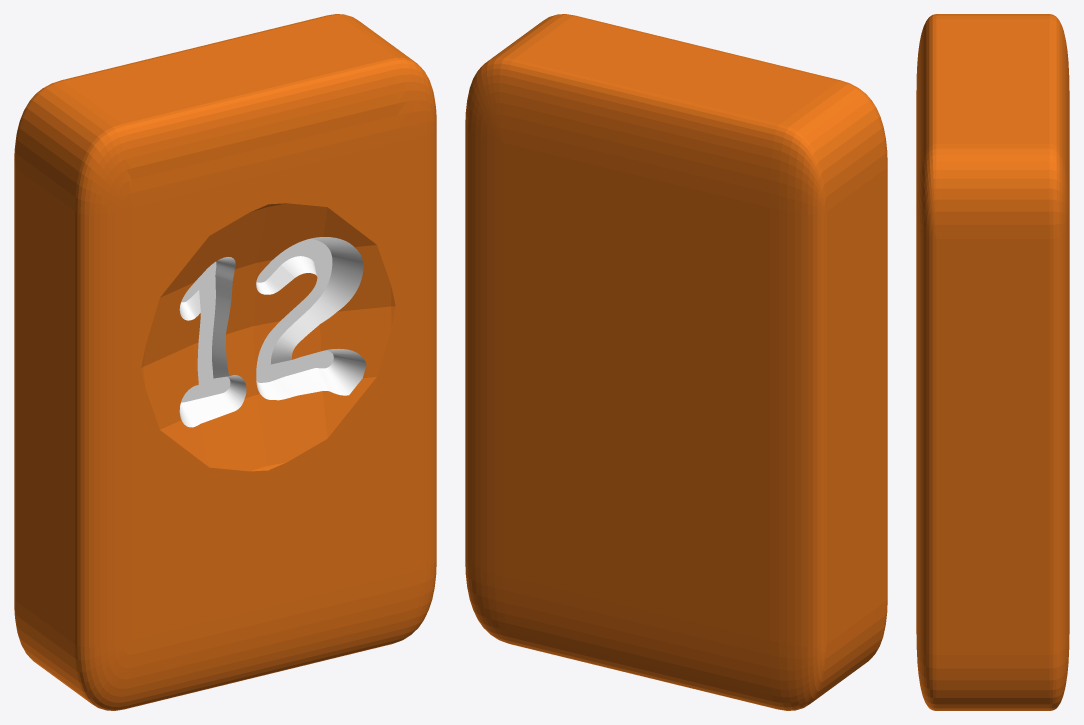
The model's file is Rummikub Card 12.FBX.
3 views of the same model, side by side, from view 1: azimuth 30°, elevation 25°; view 2: azimuth 150°, elevation 25°; view 3: azimuth 270°, elevation 25° (orthographic). The views are drawn at different scales.
Visible parts, largest first — view 1: CardModel; view 2: CardModel; view 3: CardModel.
Boxes of the visible parts, left/top/right/bottom form: CardModel: left=14, top=14, right=436, bottom=710; CardModel: left=465, top=14, right=887, bottom=710; CardModel: left=916, top=14, right=1069, bottom=710.
Bounding box in the file's own units: 44.87 × 69.66 × 17.19.
